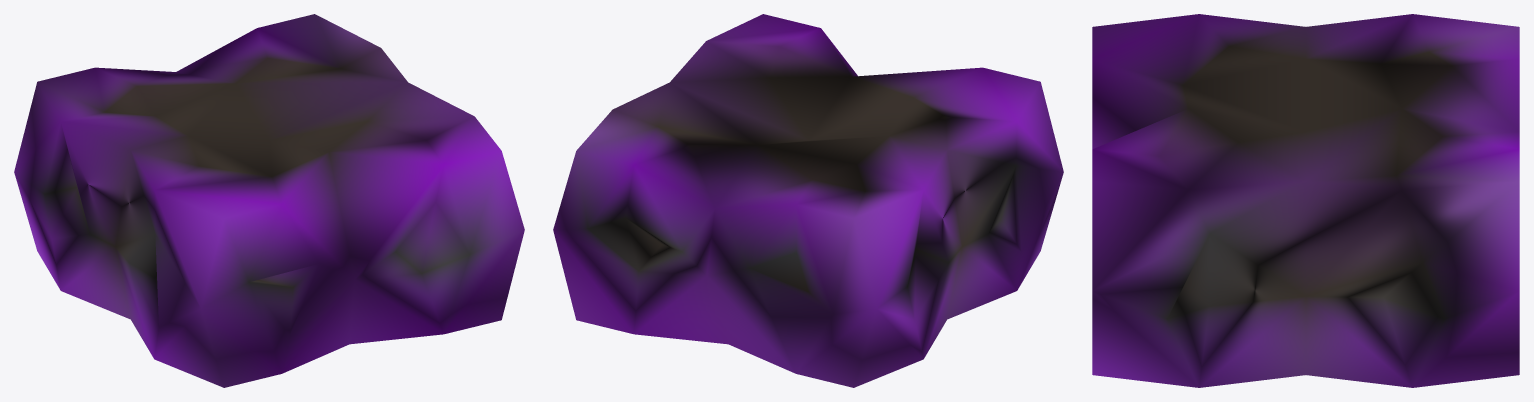
File: ciws_base_lod6.glb
3 views of the same model, side by side, from view 1: azimuth 30°, elevation 25°; view 2: azimuth 150°, elevation 25°; view 3: azimuth 270°, elevation 25° (orthographic). The views are drawn at different scales.
Parts seen in each view (by area): view 1: ciws_base; view 2: ciws_base; view 3: ciws_base.
Part boxes in pixels (bbox=[...]): ciws_base: bbox=[14, 14, 524, 387]; ciws_base: bbox=[553, 14, 1063, 387]; ciws_base: bbox=[1092, 14, 1519, 387].
Bounding box in the file's own units: 4 × 2 × 4.
